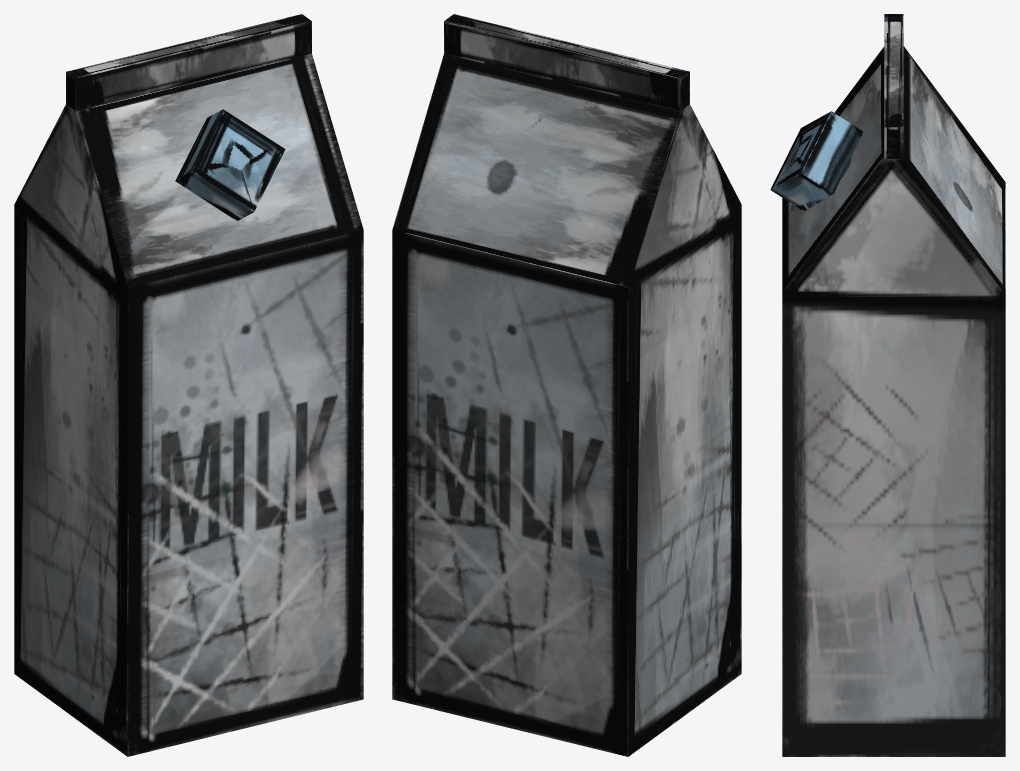
File: milk.glb
The picture shows the model from 3 angles, left to right: view 1: azimuth 30°, elevation 25°; view 2: azimuth 150°, elevation 25°; view 3: azimuth 270°, elevation 25°; orthographic projection.
Visible parts, largest first — view 1: Milk Var 1; view 2: Milk Var 1; view 3: Milk Var 1.
Part boxes in pixels (box(x1,y1,x2,y2)): Milk Var 1: box(14, 14, 363, 756); Milk Var 1: box(392, 14, 741, 756); Milk Var 1: box(770, 14, 1005, 756).
Size of the model in its own units: 0.1444 by 0.3743 by 0.1269.
Materials: 1 (1 with a texture image).
